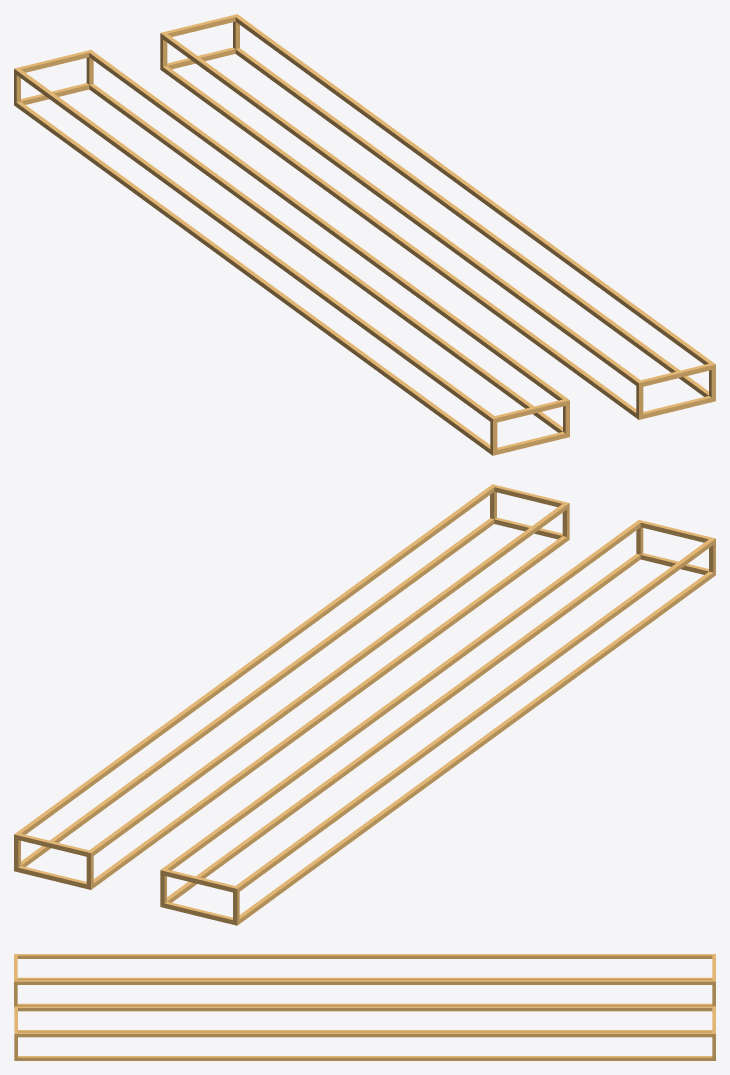
File: skis.glb
The picture shows the model from 3 angles, top to bottom: view 1: azimuth 30°, elevation 25°; view 2: azimuth 150°, elevation 25°; view 3: azimuth 270°, elevation 25°; orthographic projection. The views are drawn at different scales.
Visible parts, largest first — view 1: box_0, box_1; view 2: box_1, box_0; view 3: box_1, box_0.
Part boxes in pixels (x1=…): box_0: x1=14, y1=50, x2=569, y2=455; box_1: x1=160, y1=14, x2=715, y2=419; box_1: x1=14, y1=484, x2=569, y2=889; box_0: x1=160, y1=520, x2=715, y2=925; box_1: x1=14, y1=1006, x2=715, y2=1060; box_0: x1=14, y1=954, x2=715, y2=1008.
Size of the model in its own units: 0.5058 by 0.0797 by 1.88.
